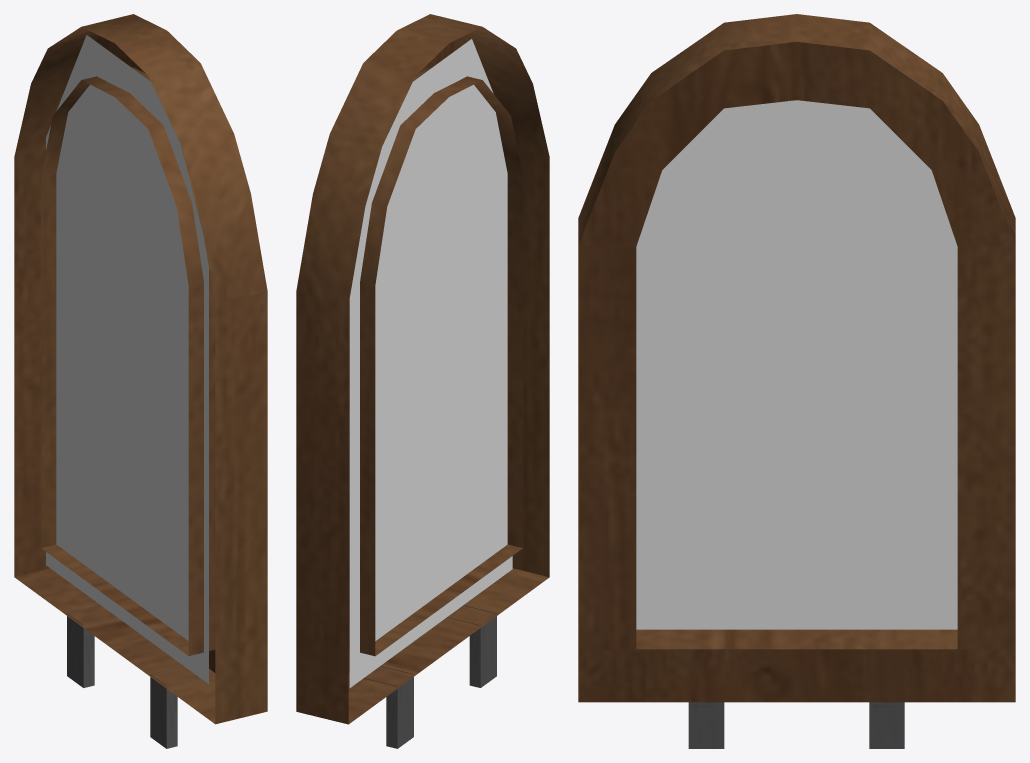
File: Window.fbx
3 renders of one model, left to right at view 1: azimuth 30°, elevation 25°; view 2: azimuth 150°, elevation 25°; view 3: azimuth 270°, elevation 25°, orthographic. The views are drawn at different scales.
Visible parts, largest first — view 1: M_Window3_MedievalDiningRoom_FinalScene2:blinn3_0; view 2: M_Window3_MedievalDiningRoom_FinalScene2:blinn3_0; view 3: M_Window3_MedievalDiningRoom_FinalScene2:blinn3_0.
Part boxes in pixels (x1,y1,x2,y2): M_Window3_MedievalDiningRoom_FinalScene2:blinn3_0: (14,14,267,748); M_Window3_MedievalDiningRoom_FinalScene2:blinn3_0: (296,14,549,748); M_Window3_MedievalDiningRoom_FinalScene2:blinn3_0: (578,14,1015,748).
Bounding box in the file's own units: 3.09 × 37.68 × 20.51.
Materials: 1 (1 with a texture image).
